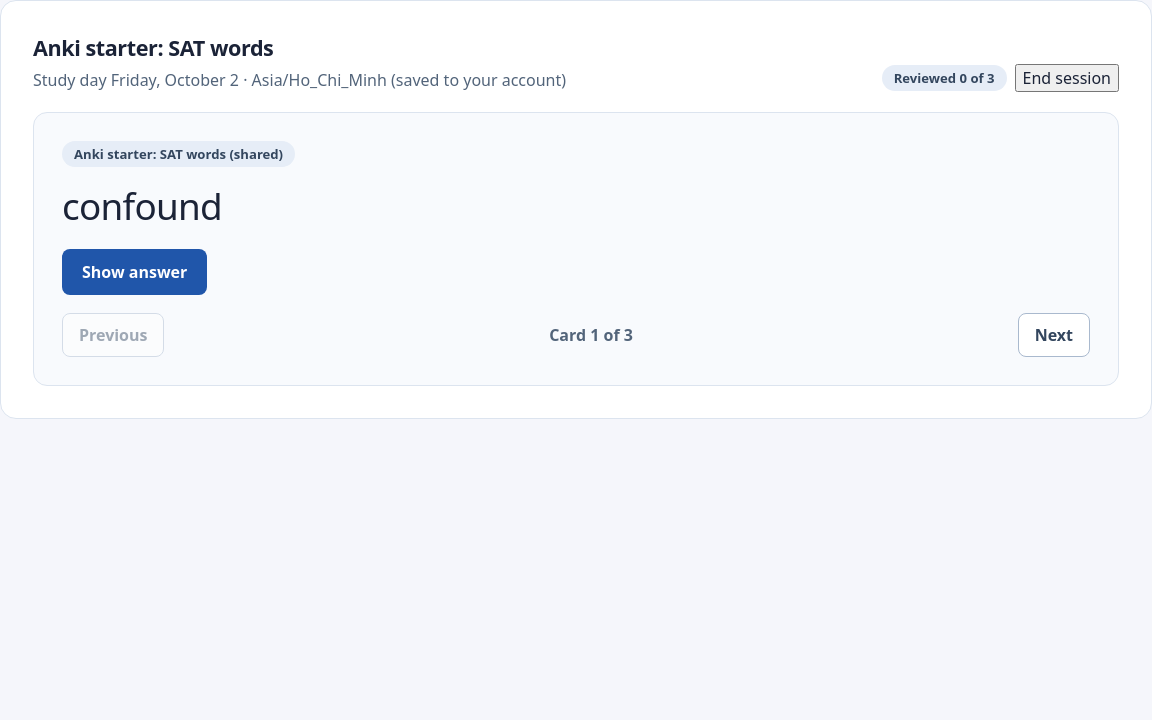
Test: keeps the rating controls disabled while saving and reports a failed save without advancing
Click the button "Show answer". click: (135, 272)
box: [62, 249, 207, 295]
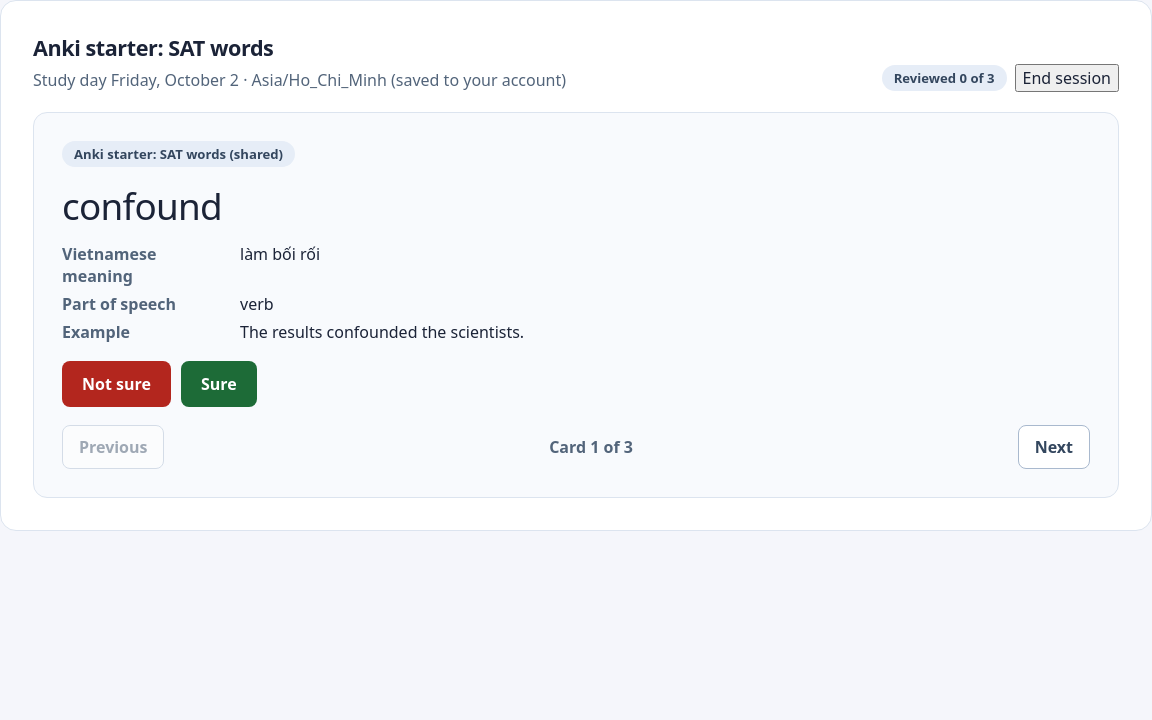
Click the button "Sure". click: (219, 384)
box: [181, 361, 257, 407]
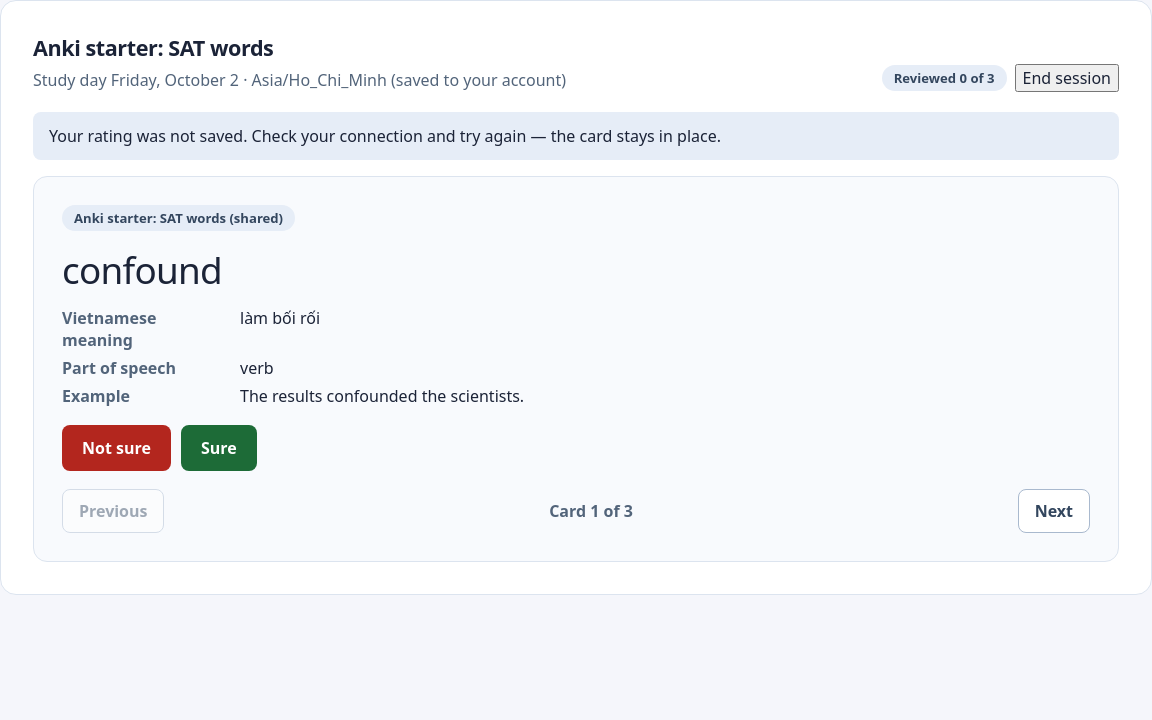
Expected: the text "confound" is shown, [62, 245, 222, 295]
Expected: the button "Sure" is enabled, [181, 425, 257, 471]
Expected: the text "Your rating was not saved" is shown, [49, 125, 721, 147]
